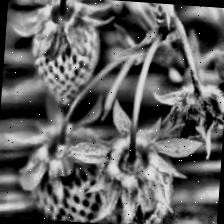Gray Mold: (149, 68, 224, 161)
